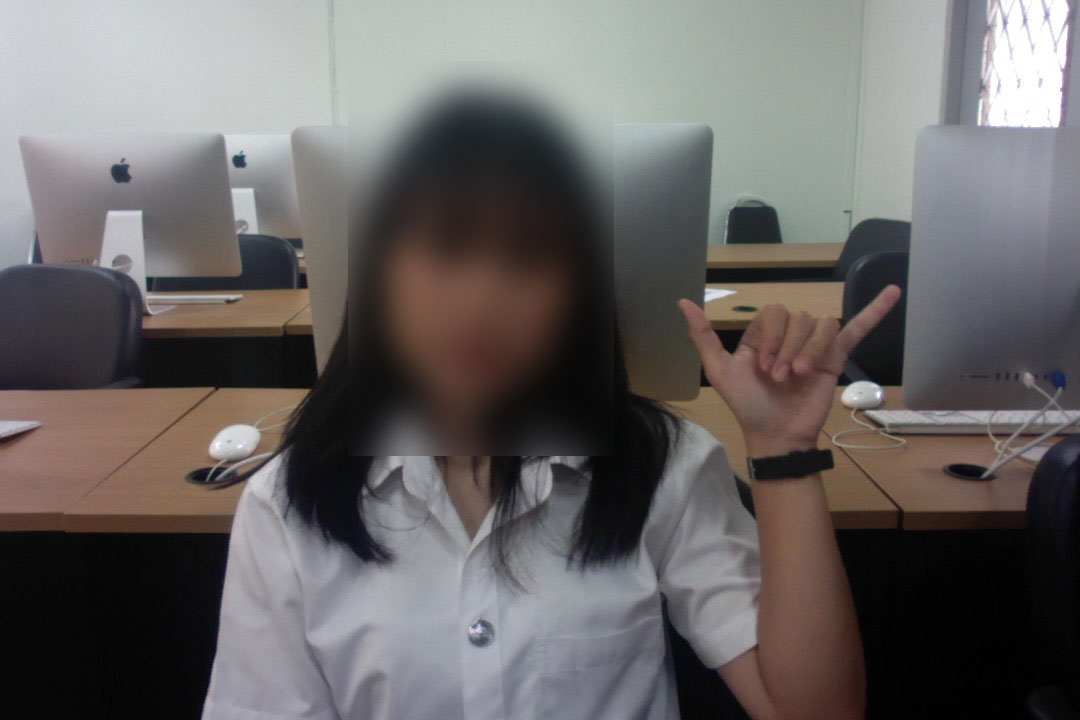yor: (670, 276, 911, 455)
